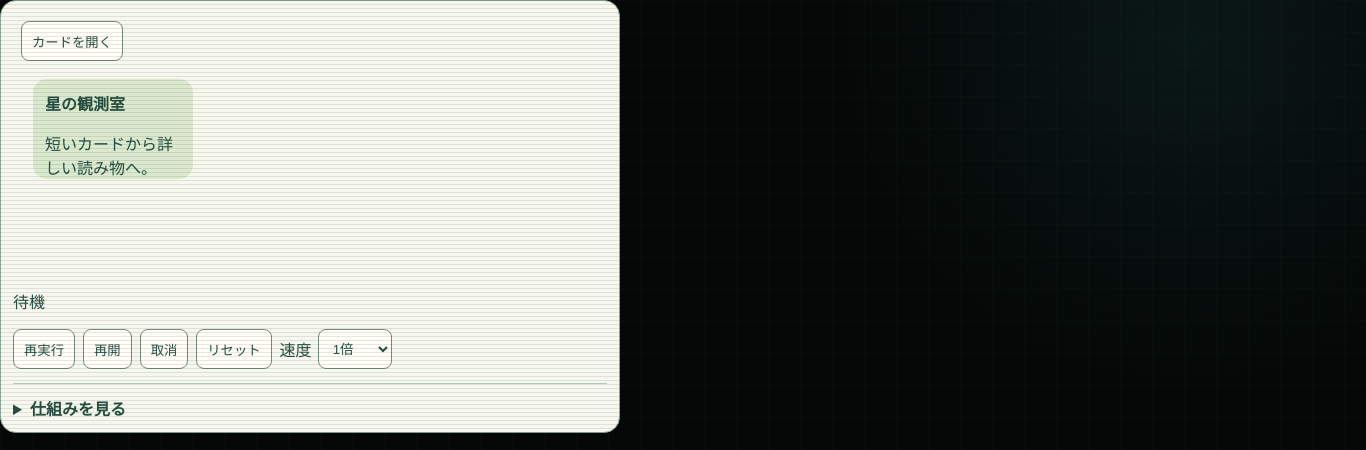
Test case: phase7b deterministic geometry and state › card reverses without jumping and returns focus
Click the button "カードを開く". click: point(72, 41)
box: [21,21,123,61]
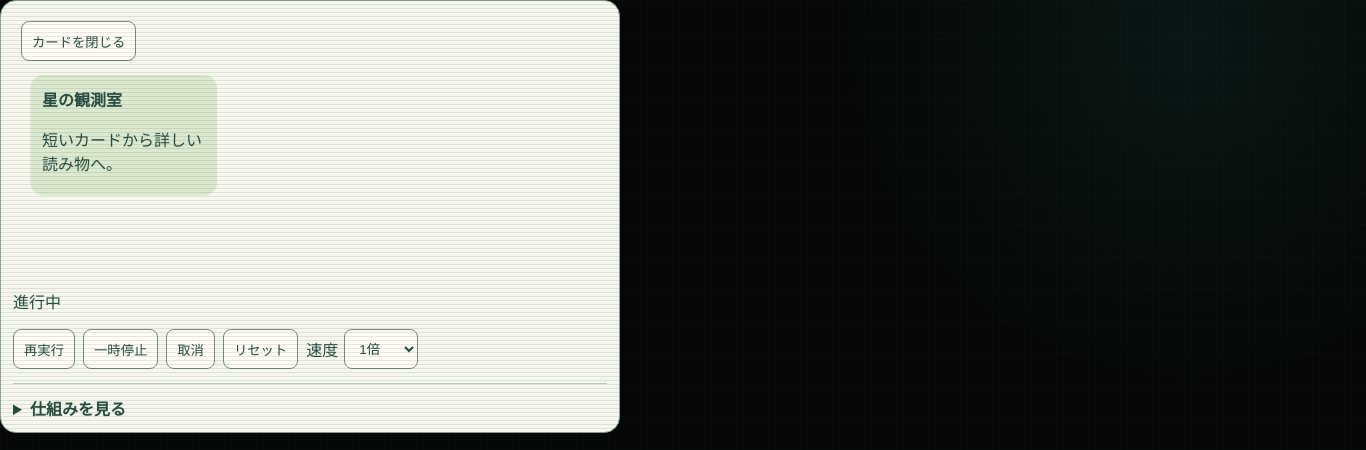
Click the button "カードを閉じる". click: point(79, 41)
box: [21,21,136,61]
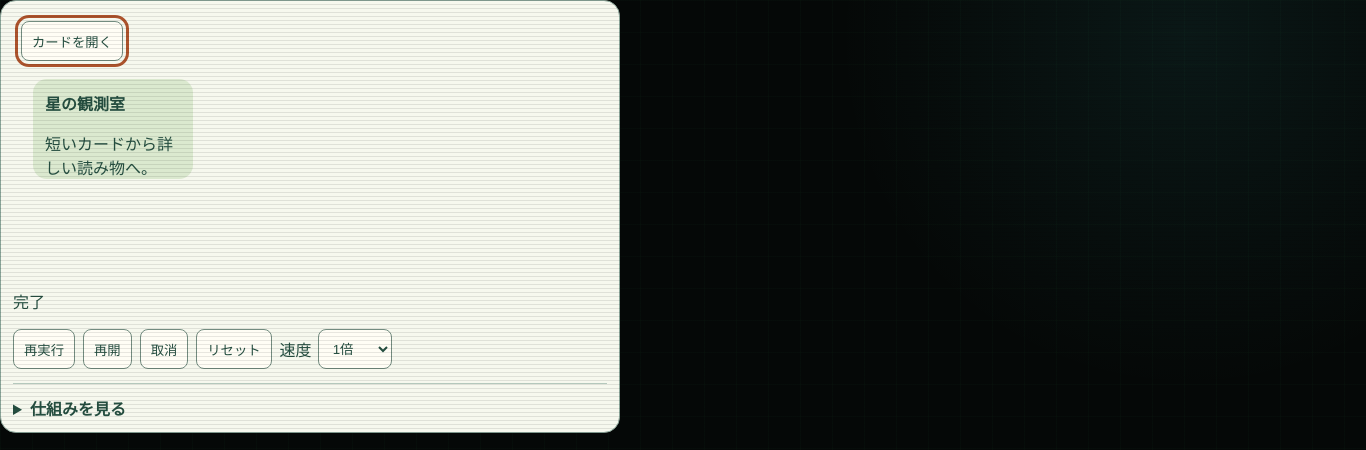
Expected: the button named "カードを閉じる" reads "カードを開く", [21,21,123,61]
